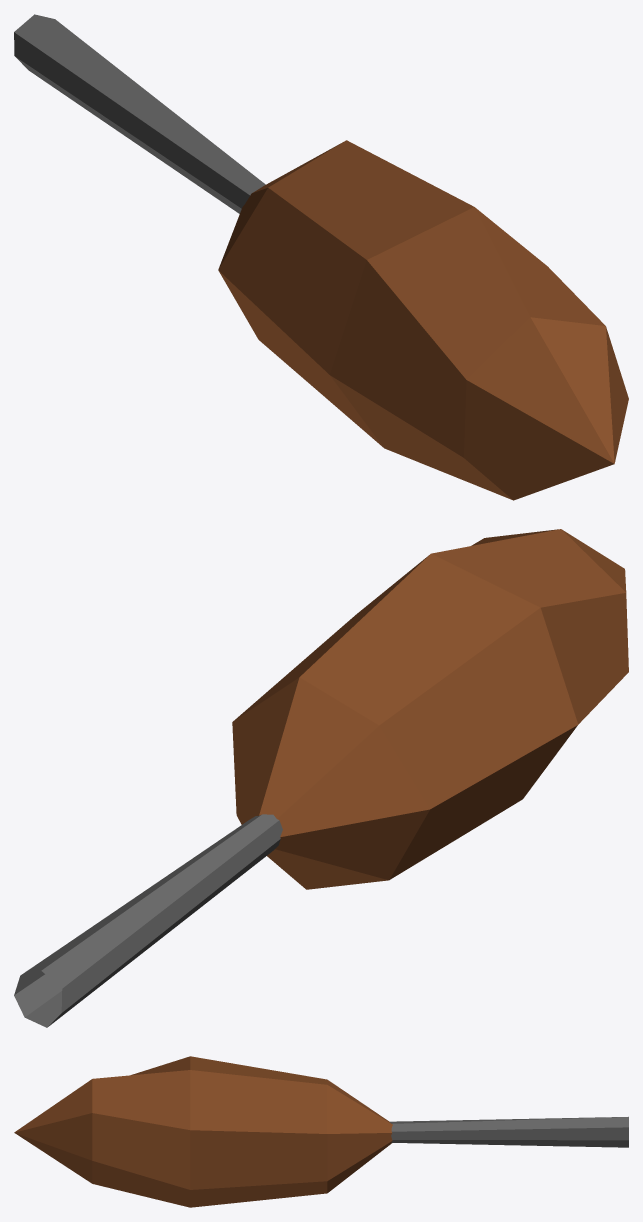
The model's file is dying_1.glb.
3 views of the same model, one above another, from view 1: azimuth 30°, elevation 25°; view 2: azimuth 150°, elevation 25°; view 3: azimuth 270°, elevation 25° (orthographic). The views are drawn at different scales.
Visible parts, largest first — view 1: tree_01_dying_1; view 2: tree_01_dying_1; view 3: tree_01_dying_1.
Part boxes in pixels (x1,y1,x2,y2): tree_01_dying_1: [14, 14, 628, 500]; tree_01_dying_1: [14, 529, 628, 1027]; tree_01_dying_1: [14, 1056, 628, 1207].
Bounding box in the file's own units: 6.76 × 7.15 × 29.22.
